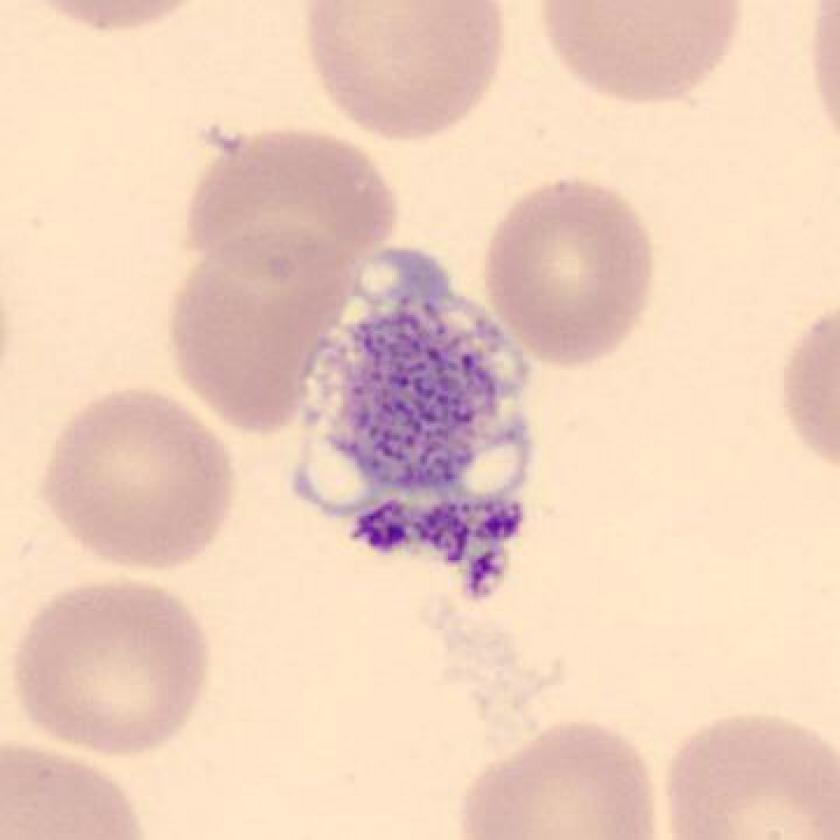platelets: (295, 249, 556, 614)
